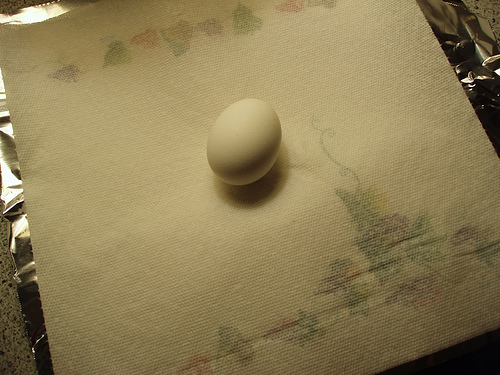egg: (204, 95, 286, 188)
